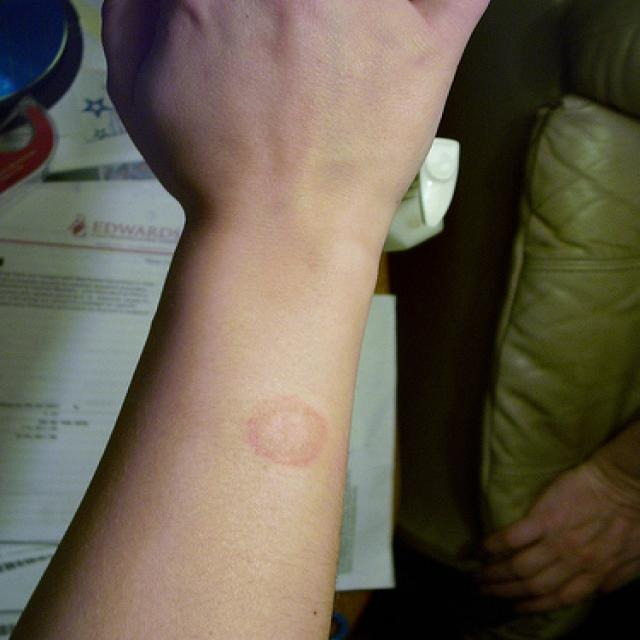Ringworm: (237, 378, 335, 482)
